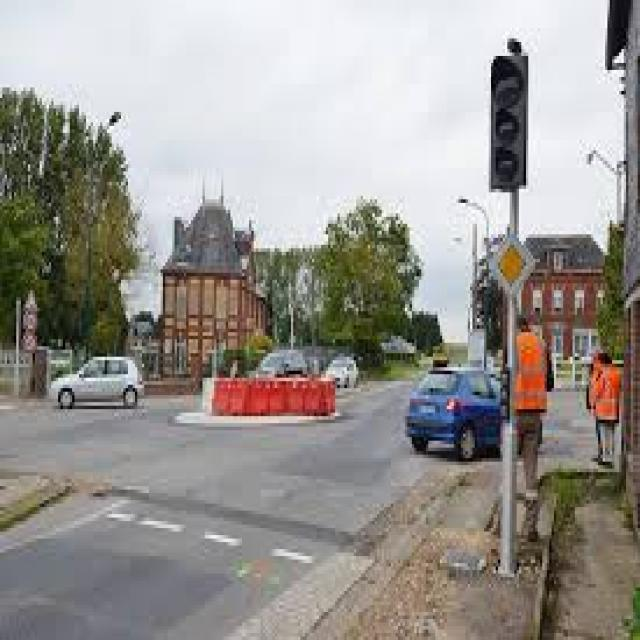feu: (491, 44, 528, 193)
particulier: (408, 371, 501, 461), (51, 356, 146, 409)
